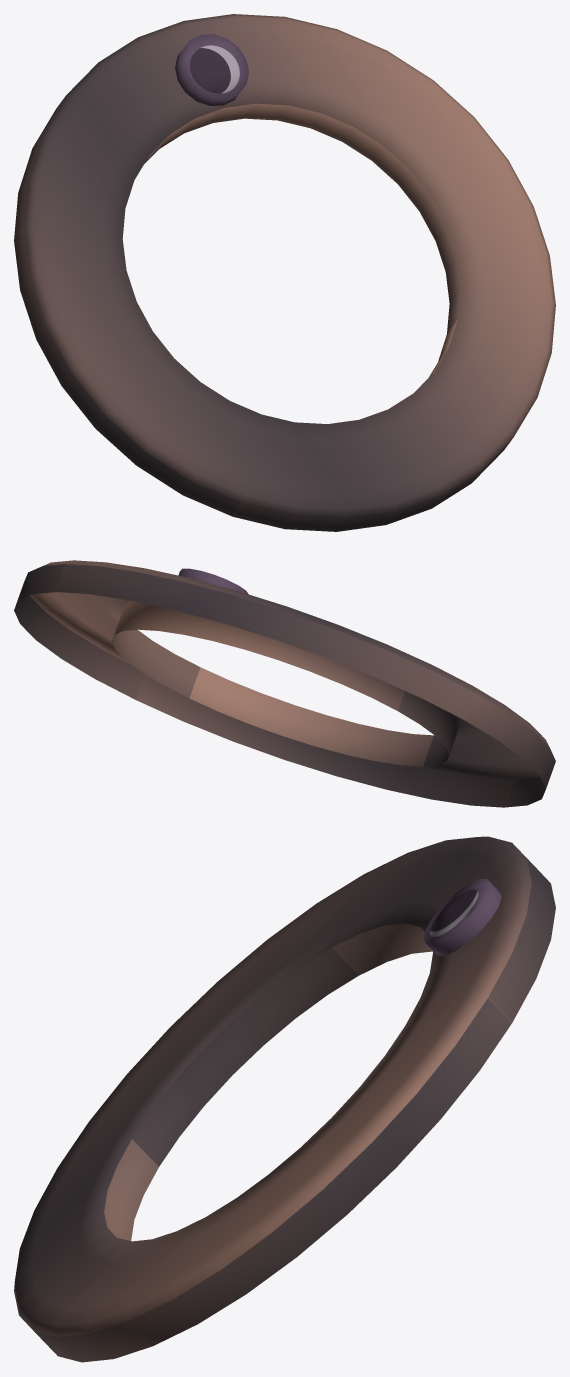
Rendered from Schijf1.fbx.
3 renders of one model, top to bottom at view 1: azimuth 30°, elevation 25°; view 2: azimuth 150°, elevation 25°; view 3: azimuth 270°, elevation 25°, orthographic. The views are drawn at different scales.
Visible parts, largest first — view 1: Cylinder.001; view 2: Cylinder.001; view 3: Cylinder.001.
Part boxes in pixels (left/top/right/bottom): Cylinder.001: left=14, top=14, right=555, bottom=531; Cylinder.001: left=14, top=560, right=555, bottom=807; Cylinder.001: left=14, top=836, right=555, bottom=1362.
Bounding box in the file's own units: 132 × 92.08 × 104.
